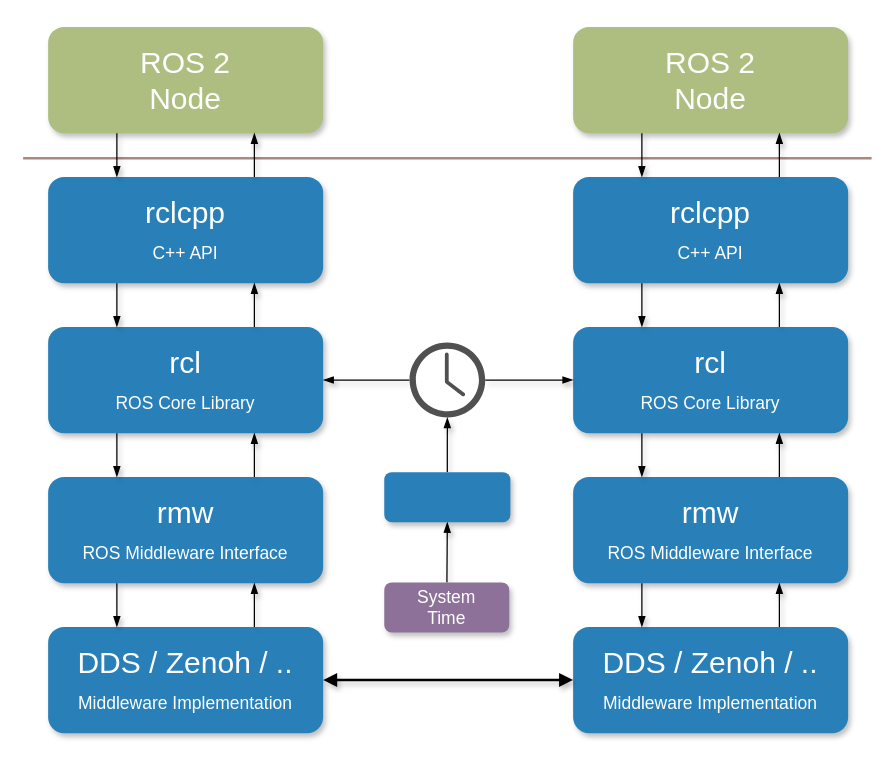
The diagram is 894 pixels wide and 763 high, and some of its shapes have lost their labels. The shapes that lost their labels are listed below. From the top down, each one's centre as x and y in pixels, then its label:
At point (447, 379): "Time Source".
At point (448, 498): "ROS Time".
